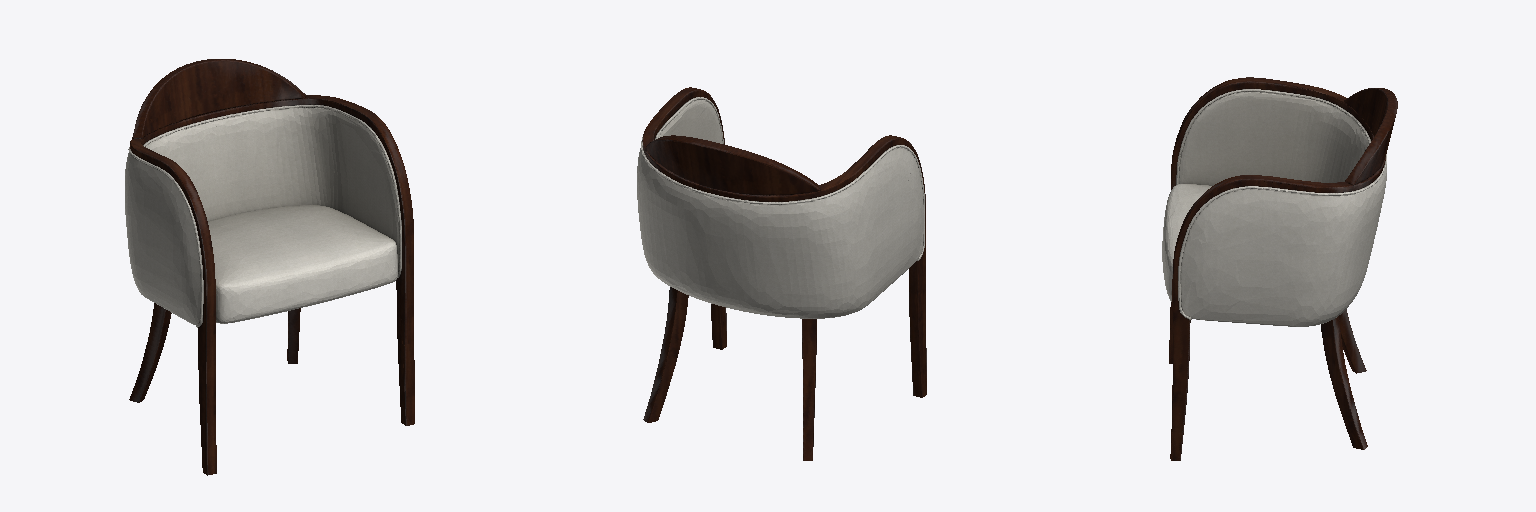
3 views of the same model, side by side, from view 1: azimuth 30°, elevation 25°; view 2: azimuth 150°, elevation 25°; view 3: azimuth 270°, elevation 25° (orthographic).
Parts seen in each view (by area): view 1: solid_001, solid_002; view 2: solid_001, solid_002; view 3: solid_001, solid_002.
Boxes of the visible parts, x1,y1,x2,y2 form: solid_001: [125, 105, 401, 327]; solid_002: [129, 59, 414, 475]; solid_001: [637, 97, 924, 318]; solid_002: [642, 87, 926, 460]; solid_001: [1162, 89, 1386, 326]; solid_002: [1169, 77, 1397, 460].
Size of the model in its own units: 0.5116 by 0.6716 by 0.4668.
1 materials, 1 textured.